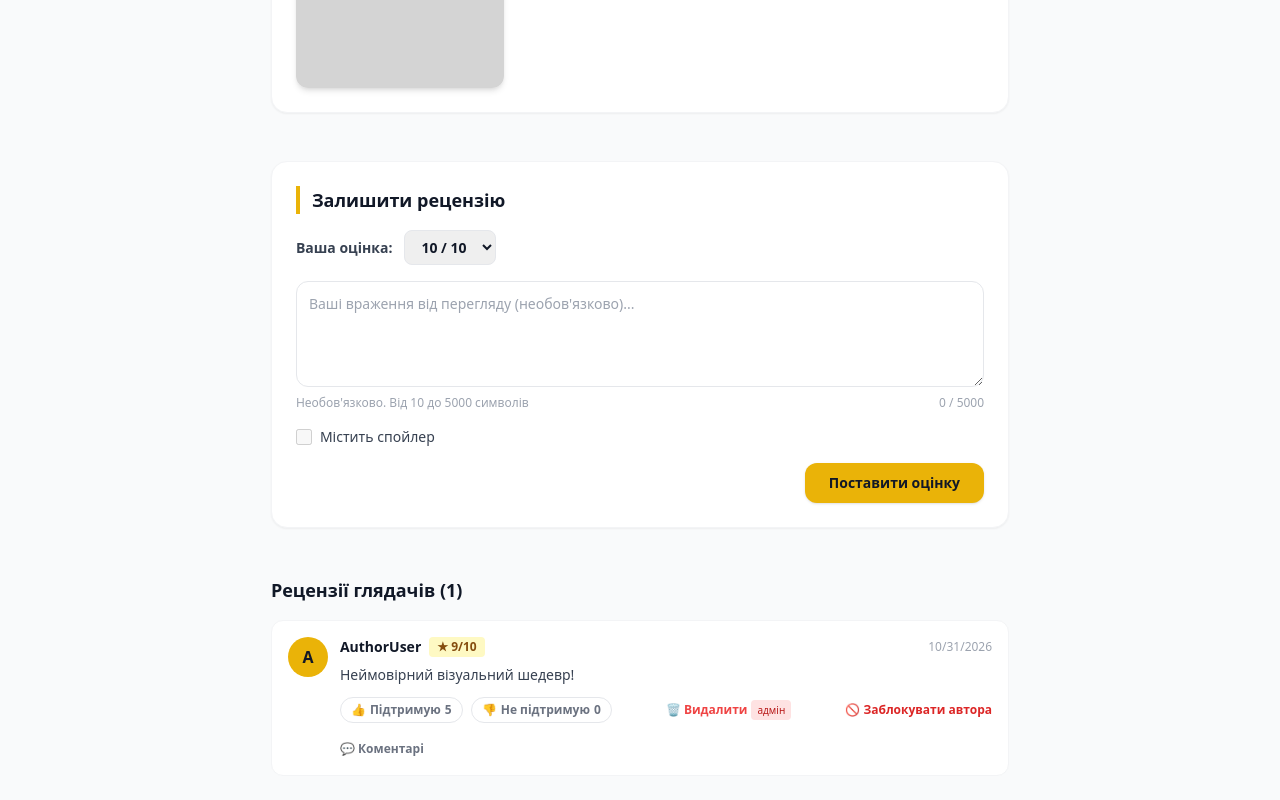
Test: MovieDetails bans (FR-009, US-006) › lets an administrator ban the author of a review
(page scrolled)
Click the button "🚫 Заблокувати автора" at (919, 710), box [845,702,992,718]
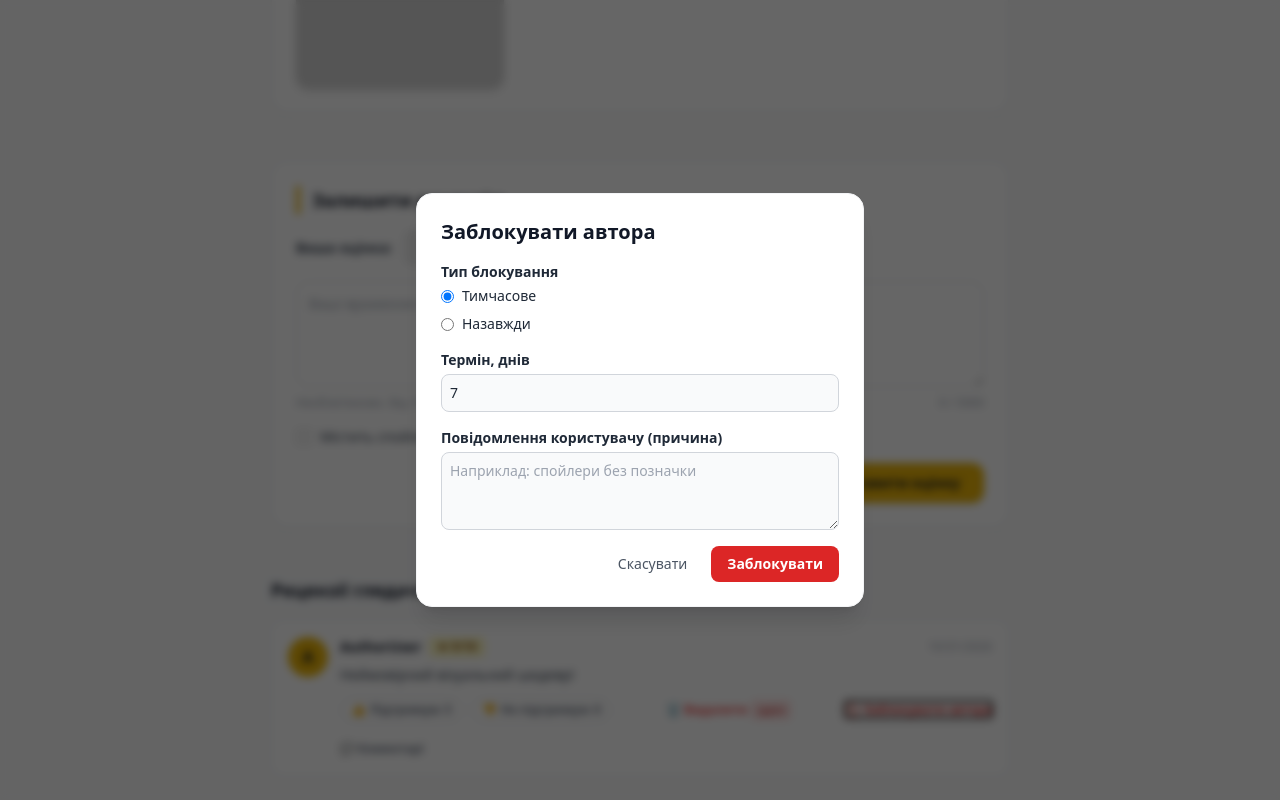
Click the radio button labelled "Назавжди" at (448, 324), box [441,318,454,330]
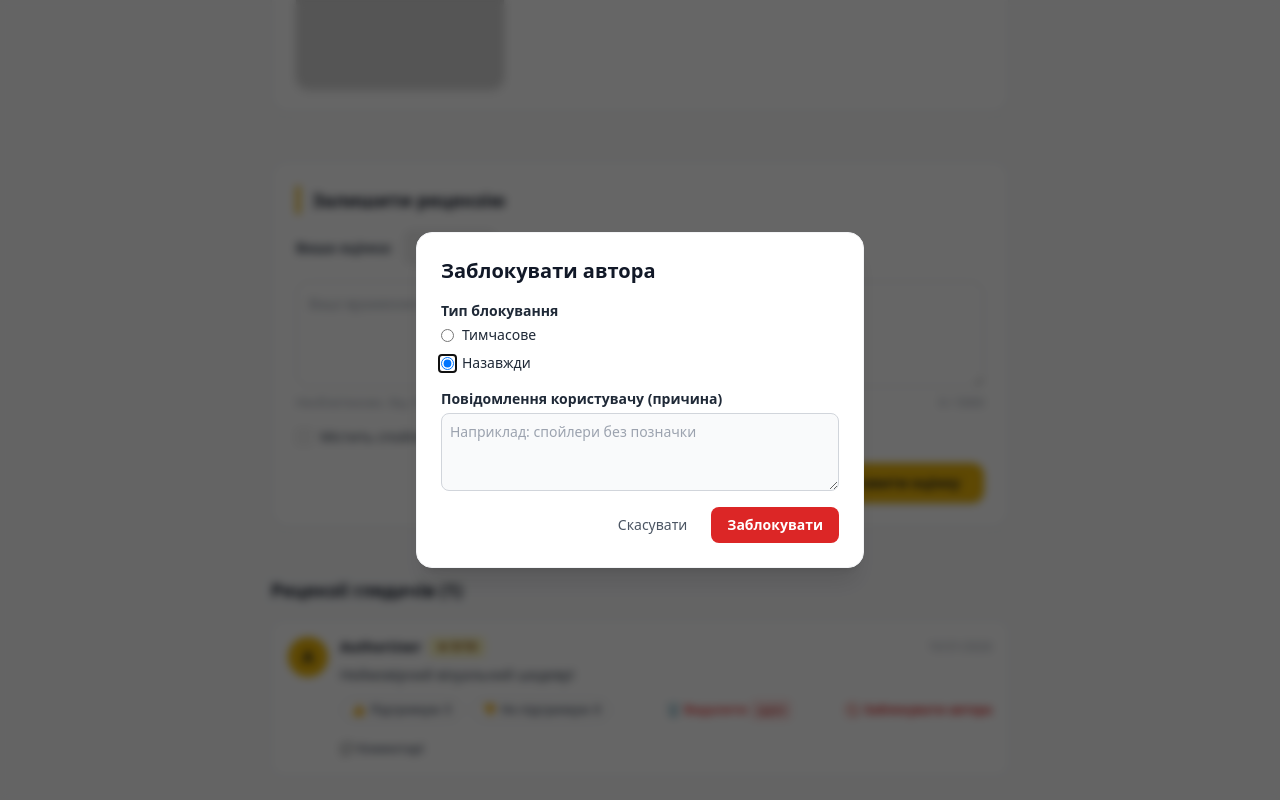
Type "Образи" into the text box labelled "Повідомлення користувачу (причина)" at (640, 452), box [441,413,839,491]
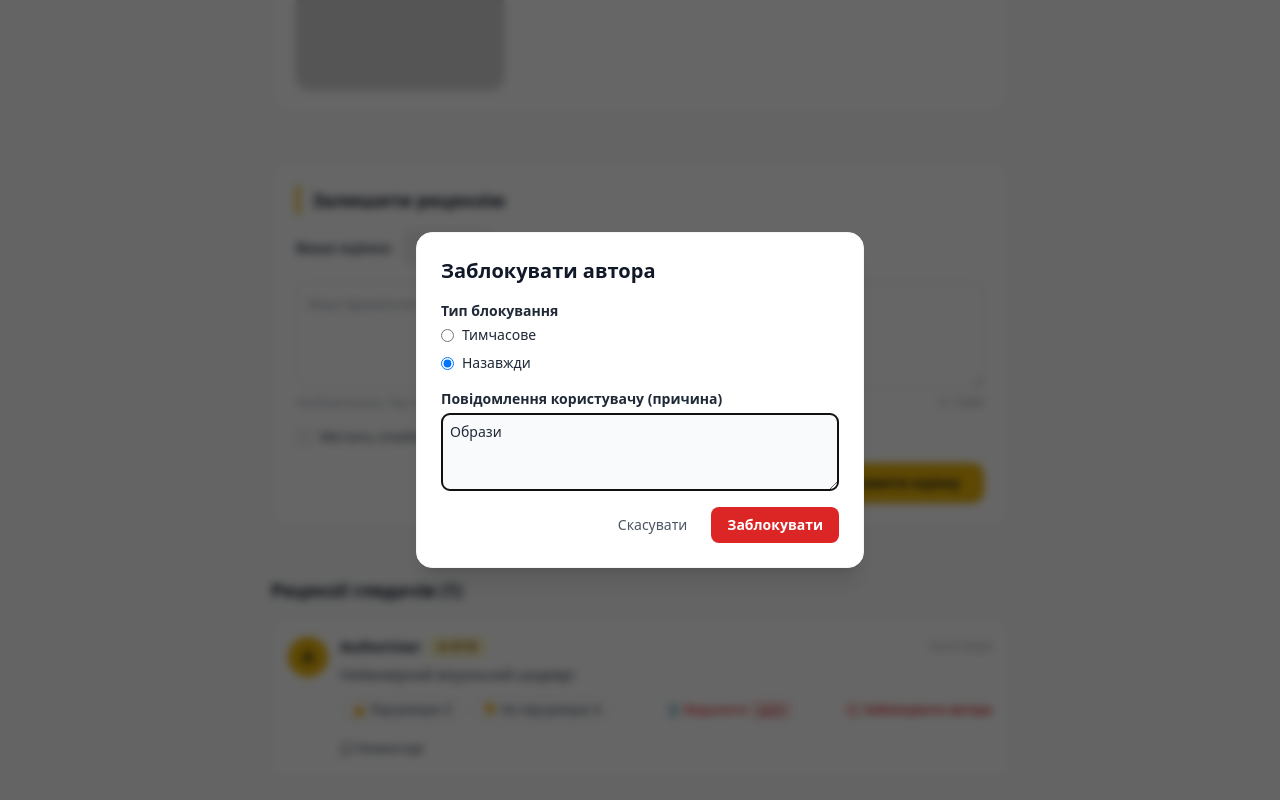
Click the button "Заблокувати" at (775, 525), box [711,507,839,543]
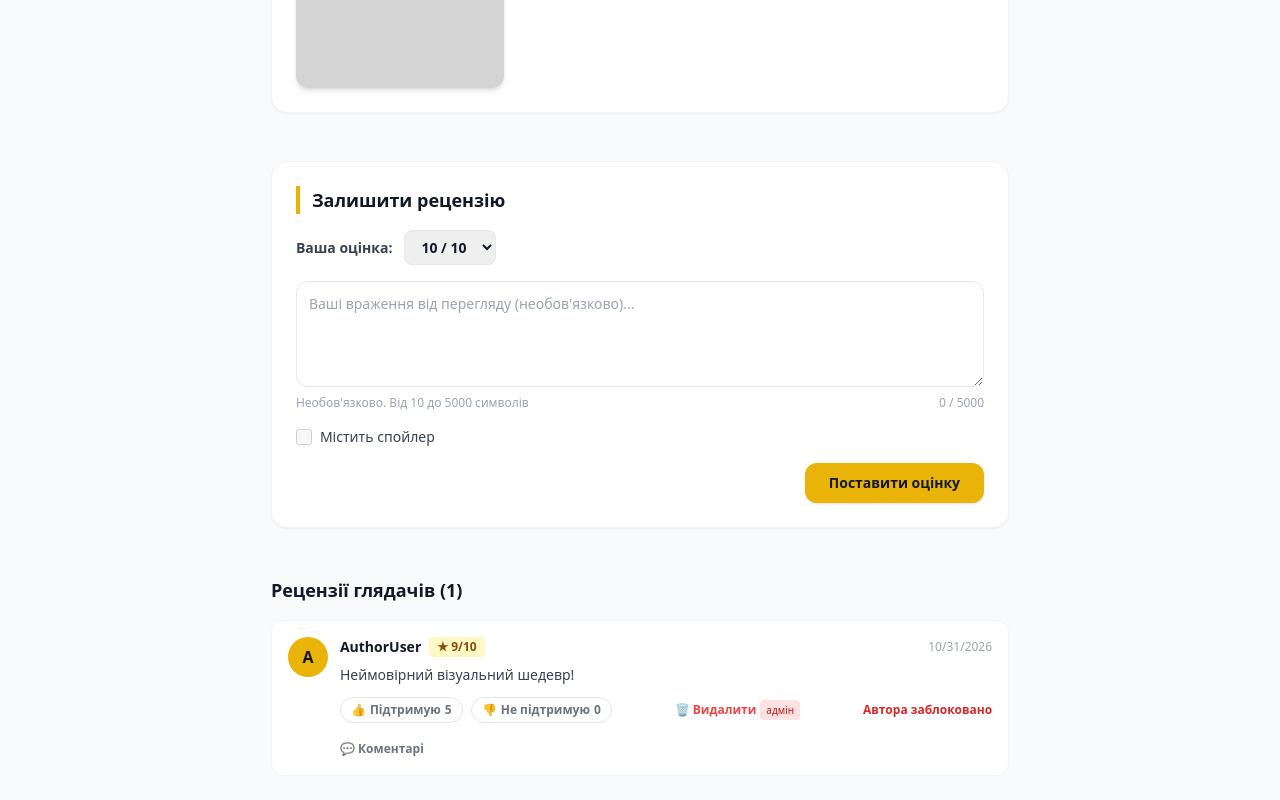
expect the text "Автора заблоковано" is shown: met, box [863,702,992,718]
